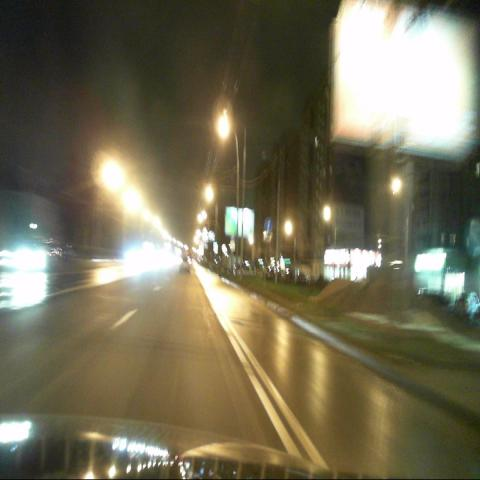4_1_1: (264, 216, 272, 232)
